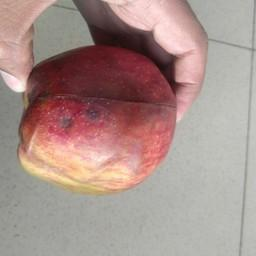Bad_apple: (16, 46, 175, 199)
